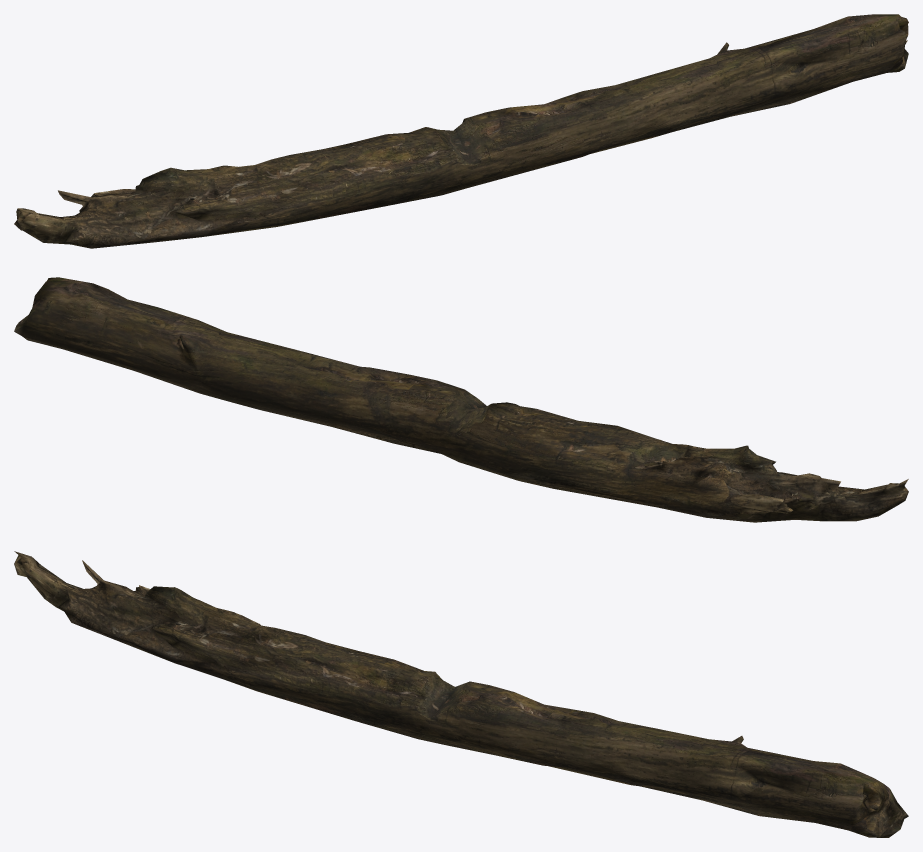
File: dead_trunk.glb
The picture shows the model from 3 angles, top to bottom: view 1: azimuth 30°, elevation 25°; view 2: azimuth 150°, elevation 25°; view 3: azimuth 330°, elevation 25°; orthographic projection.
Bounding box in the file's own units: 3.04 × 0.2827 × 0.2752.
1 material, 1 textured.
